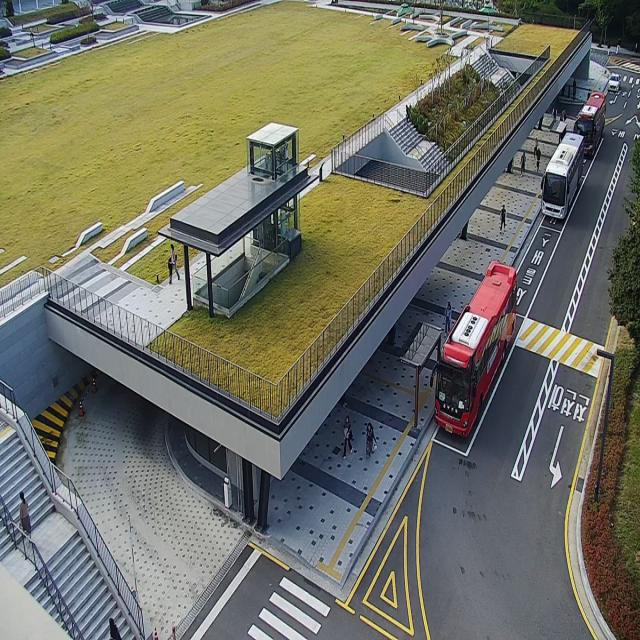queue: (417, 326, 440, 434)
